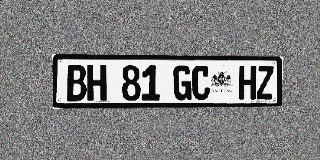1: (141, 65, 160, 100)
8: (122, 65, 141, 101)
B: (66, 65, 86, 101)
C: (192, 65, 210, 100)
G: (173, 65, 192, 100)
H: (87, 65, 106, 101), (238, 66, 256, 100)
Z: (256, 66, 274, 99)
